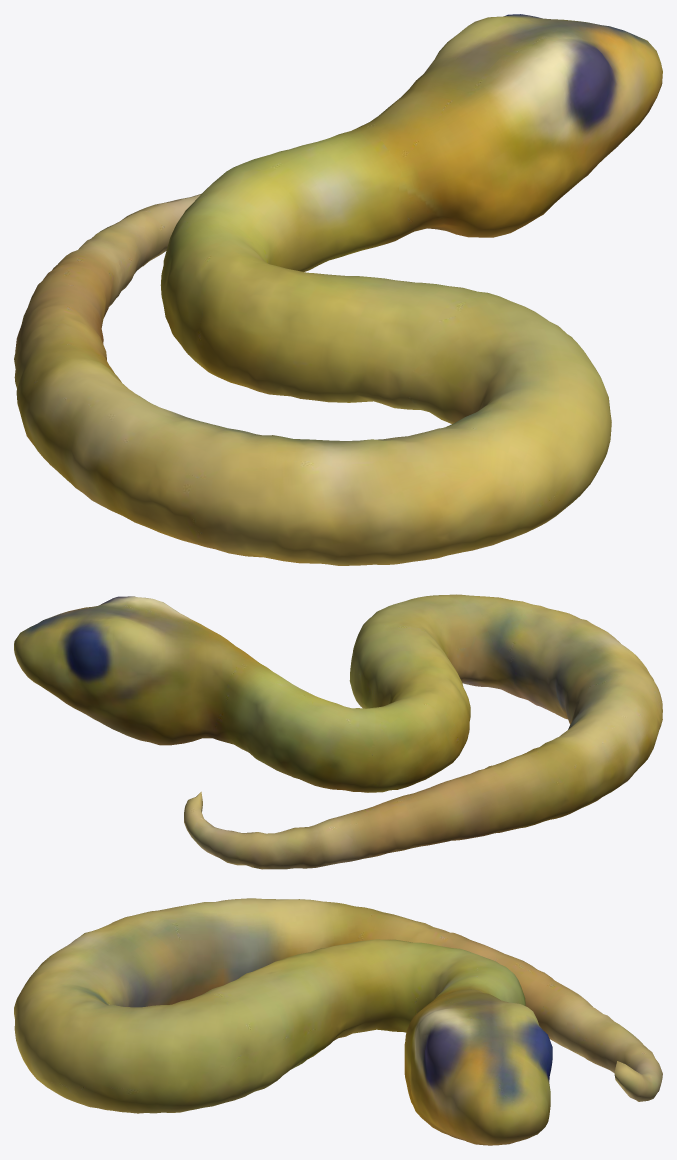
File: cobra.fbx
The picture shows the model from 3 angles, top to bottom: view 1: azimuth 30°, elevation 25°; view 2: azimuth 150°, elevation 25°; view 3: azimuth 270°, elevation 25°; orthographic projection. The views are drawn at different scales.
Parts seen in each view (by area): view 1: Mesh1; view 2: Mesh1; view 3: Mesh1.
Part boxes in pixels (x1,y1,x2,y2): Mesh1: [14, 14, 662, 565]; Mesh1: [14, 594, 662, 869]; Mesh1: [14, 898, 662, 1145].
Size of the model in its own units: 120 by 37.75 by 117.
1 material, 1 textured.
